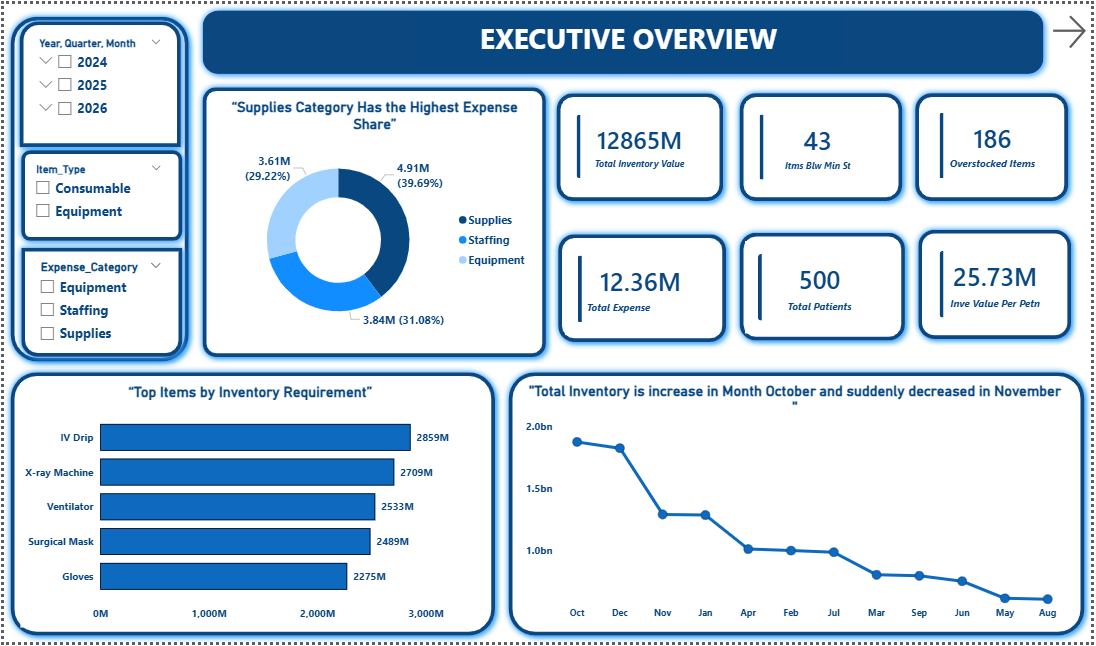

The dashboard page shown, as its layout file describes it:
{"tool":"powerbi","page":{"name":"Overview","canvas":[1450,850],"ordinal":0},"visuals":[{"type":"shape","box":[255.1,102,475.5,377.6],"z":0},{"type":"shape","box":[0,481.8,663.6,369.1],"z":1000},{"type":"shape","box":[663.6,481.8,785.5,369.1],"z":2000},{"type":"shape","box":[1210.9,292.7,221.8,163.6],"z":3000},{"type":"shape","box":[730.9,298.2,241.8,161.8],"z":4000},{"type":"shape","box":[972.7,296.4,238.2,161.8],"z":5000},{"type":"shape","box":[0,8.2,255.1,477.6],"z":6000},{"type":"shape","box":[1205.5,109.1,221.8,161.8],"z":7000},{"type":"shape","box":[972.7,109.1,234.5,161.8],"z":8000},{"type":"shape","box":[727.3,109.1,240,161.8],"z":9000},{"type":"cardVisual","fields":{"Data":["Inventory_data.Total Inventory Value"]},"box":[745.5,129.1,203.6,120],"z":10000},{"type":"cardVisual","fields":{"Data":["Inventory_data.Items Below Min Stock"]},"box":[990.9,129.1,190.9,121.8],"z":11000},{"type":"cardVisual","fields":{"Data":["Inventory_data.Overstocked Items"]},"box":[1229.1,127.3,176.4,121.8],"z":12000},{"type":"cardVisual","fields":{"Data":["Finantial_data.Total Expense"]},"box":[747.3,318.2,201.8,123.6],"z":13000},{"type":"cardVisual","fields":{"Data":["Inventory_data.Total Patients"]},"box":[987.3,316.4,200,123.6],"z":14000},{"type":"cardVisual","fields":{"Data":["Petient_data.Inventory Value per Patient"]},"box":[1229.1,312.7,183.6,123.6],"z":15000},{"type":"lineChart","title":"\"Total Inventory is increase in Month October and suddenly decreased in November \"","fields":{"Y":["Inventory_data.Total Inventory Value"],"Category":["Inventory_data.Date Hierarchy.Month"]},"box":[690.9,503.6,729.1,325.5],"z":16000},{"type":"clusteredBarChart","title":"“Top Items by Inventory Requirement”","fields":{"Y":["Inventory_data.Total Inventory Value"],"Category":["Inventory_data.Item_Name"]},"box":[21.8,505.5,612.7,325.5],"z":17000},{"type":"donutChart","title":"“Supplies Category Has the Highest Expense Share”","fields":{"Category":["Finantial_data.Expense_Category"],"Y":["Finantial_data.Total Expense"]},"box":[279.6,126.5,428.6,332.7],"z":18000},{"type":"shape","box":[12.2,14.3,232.7,185.7],"z":19000},{"type":"slicer","fields":{"Values":["Finantial_data.Date.Variation.Date Hierarchy.Year","Finantial_data.Date.Variation.Date Hierarchy.Quarter","Finantial_data.Date.Variation.Date Hierarchy.Month"]},"box":[34.7,38.8,187.8,140.8],"z":20000},{"type":"shape","box":[14.3,316.3,232.7,163.3],"z":21000},{"type":"shape","box":[14.3,185.7,232.7,138.8],"z":22000},{"type":"slicer","fields":{"Values":["Finantial_data.Expense_Category"]},"box":[36.7,336.7,185.7,122.4],"z":23000},{"type":"slicer","fields":{"Values":["Inventory_data.Item_Type"]},"box":[30.6,206.1,191.8,100],"z":24000},{"type":"shape","box":[255.1,0,1138.8,102],"z":25000},{"type":"textbox","box":[549,14.3,569.4,69.4],"z":26000},{"type":"actionButton","box":[1391.1,8.9,55.6,57.8],"z":27000}]}

Visuals, with their boxes in screenshot pixels (x1, y1, x2, y2), scaled from the page's 1450x850 canvas onto the 1096x646 screenshot:
shape: <region>193, 78, 552, 364</region>
shape: <region>0, 366, 502, 645</region>
shape: <region>502, 366, 1095, 645</region>
shape: <region>915, 222, 1083, 347</region>
shape: <region>552, 227, 735, 350</region>
shape: <region>735, 225, 915, 348</region>
shape: <region>0, 6, 193, 369</region>
shape: <region>911, 83, 1079, 206</region>
shape: <region>735, 83, 912, 206</region>
shape: <region>550, 83, 731, 206</region>
cardVisual - Inventory_data.Total Inventory Value: <region>563, 98, 717, 189</region>
cardVisual - Inventory_data.Items Below Min Stock: <region>749, 98, 893, 191</region>
cardVisual - Inventory_data.Overstocked Items: <region>929, 97, 1062, 189</region>
cardVisual - Finantial_data.Total Expense: <region>565, 242, 717, 336</region>
cardVisual - Inventory_data.Total Patients: <region>746, 240, 897, 334</region>
cardVisual - Petient_data.Inventory Value per Patient: <region>929, 238, 1068, 332</region>
""Total Inventory is increase in Month October and suddenly decreased in November "" lineChart: <region>522, 383, 1073, 630</region>
"“Top Items by Inventory Requirement”" clusteredBarChart: <region>16, 384, 480, 632</region>
"“Supplies Category Has the Highest Expense Share”" donutChart: <region>211, 96, 535, 349</region>
shape: <region>9, 11, 185, 152</region>
slicer - Finantial_data.Date.Variation.Date Hierarchy.Year x Finantial_data.Date.Variation.Date Hierarchy.Quarter: <region>26, 29, 168, 136</region>
shape: <region>11, 240, 187, 364</region>
shape: <region>11, 141, 187, 247</region>
slicer - Finantial_data.Expense_Category: <region>28, 256, 168, 349</region>
slicer - Inventory_data.Item_Type: <region>23, 157, 168, 233</region>
shape: <region>193, 0, 1054, 78</region>
textbox: <region>415, 11, 845, 64</region>
actionButton: <region>1051, 7, 1094, 51</region>
